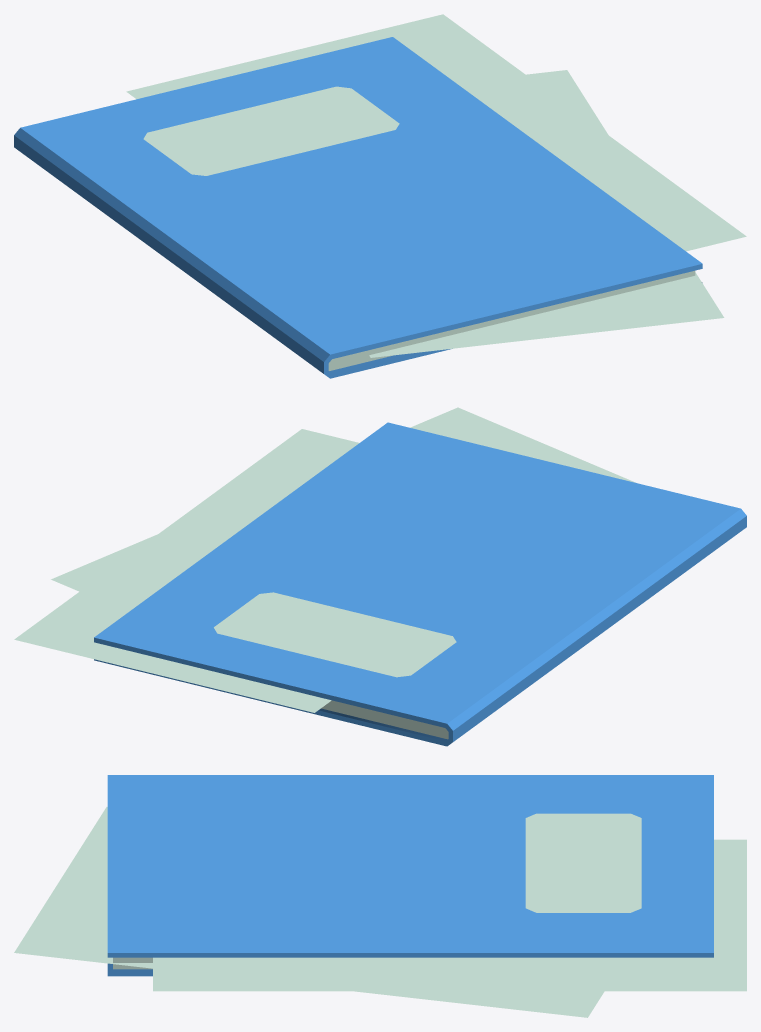
Rendered from M_Notebook.fbx.
3 renders of one model, top to bottom at view 1: azimuth 30°, elevation 25°; view 2: azimuth 150°, elevation 25°; view 3: azimuth 270°, elevation 25°, orthographic. The views are drawn at different scales.
Parts seen in each view (by area): view 1: M_Notebook_Book, M_Notebook; view 2: M_Notebook_Book, M_Notebook; view 3: M_Notebook_Book, M_Notebook.
Part boxes in pixels (box(x1,y1,x2,y2)): M_Notebook_Book: box(14, 37, 702, 378); M_Notebook: box(126, 14, 746, 357); M_Notebook_Book: box(94, 422, 746, 746); M_Notebook: box(14, 407, 635, 712); M_Notebook_Book: box(107, 775, 713, 976); M_Notebook: box(14, 807, 746, 1017).
Size of the model in its own units: 0.5087 by 0.0239 by 0.6755.
Materials: 1 (1 with a texture image).
